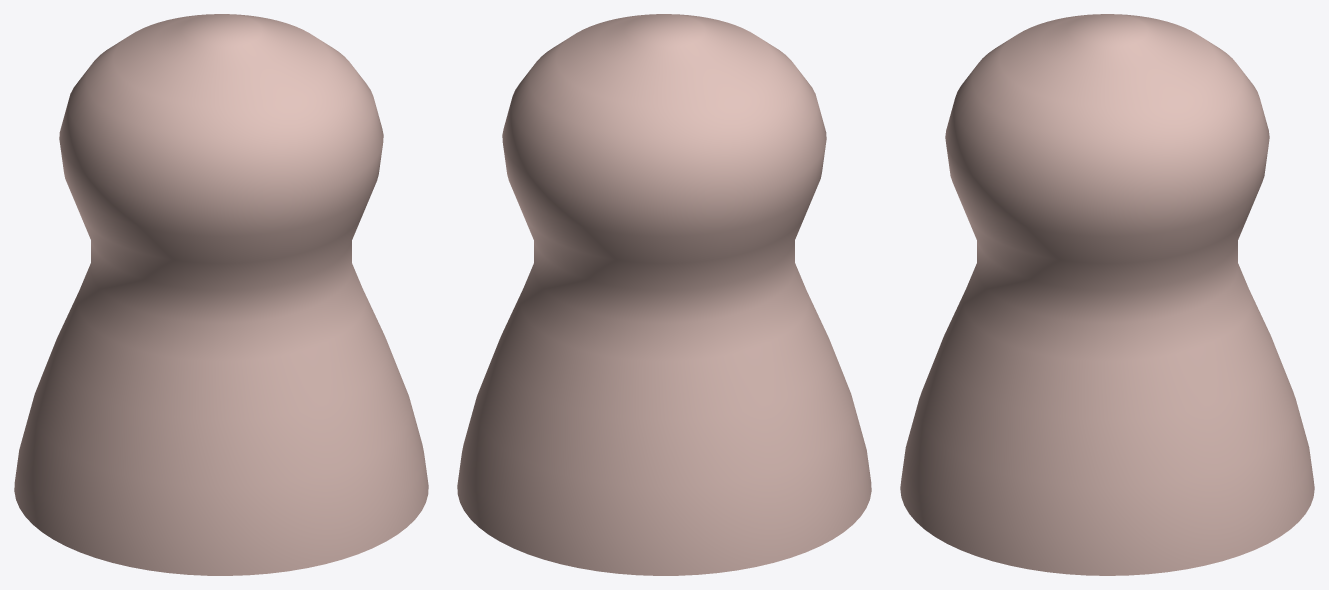
The model's file is demo-dress-form.glb.
3 renders of one model, left to right at view 1: azimuth 30°, elevation 25°; view 2: azimuth 150°, elevation 25°; view 3: azimuth 270°, elevation 25°, orthographic.
Parts seen in each view (by area): view 1: DressForm; view 2: DressForm; view 3: DressForm.
Boxes of the visible parts, x1=… form: DressForm: x1=14, y1=14, x2=428, y2=575; DressForm: x1=457, y1=14, x2=871, y2=575; DressForm: x1=900, y1=14, x2=1314, y2=575.
Bounding box in the file's own units: 0.92 × 1.12 × 0.92.
